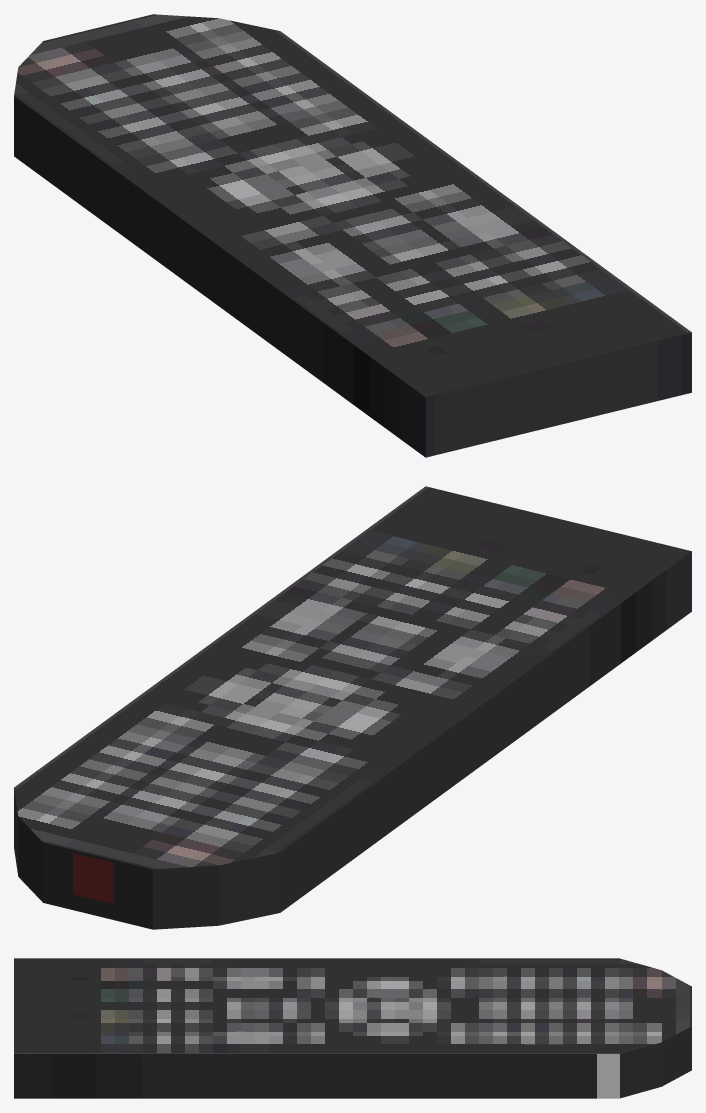
Rendered from remote.glb.
3 views of the same model, one above another, from view 1: azimuth 30°, elevation 25°; view 2: azimuth 150°, elevation 25°; view 3: azimuth 270°, elevation 25° (orthographic). The views are drawn at different scales.
Parts seen in each view (by area): view 1: remote; view 2: remote; view 3: remote.
Boxes of the visible parts, left/top/right/bottom form: remote: left=14, top=14, right=691, bottom=457; remote: left=14, top=486, right=691, bottom=929; remote: left=14, top=958, right=691, bottom=1098.
Size of the model in its own units: 0.0996 by 0.0216 by 0.2985.
1 material, 1 textured.
